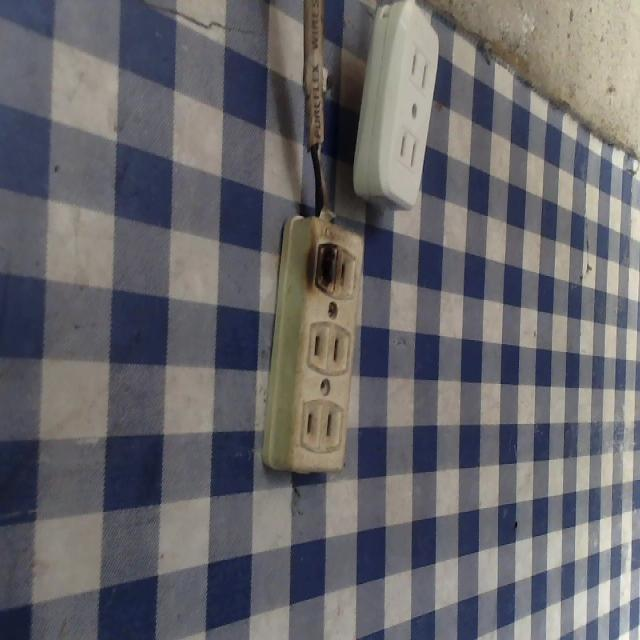-: (301, 227, 345, 304)
